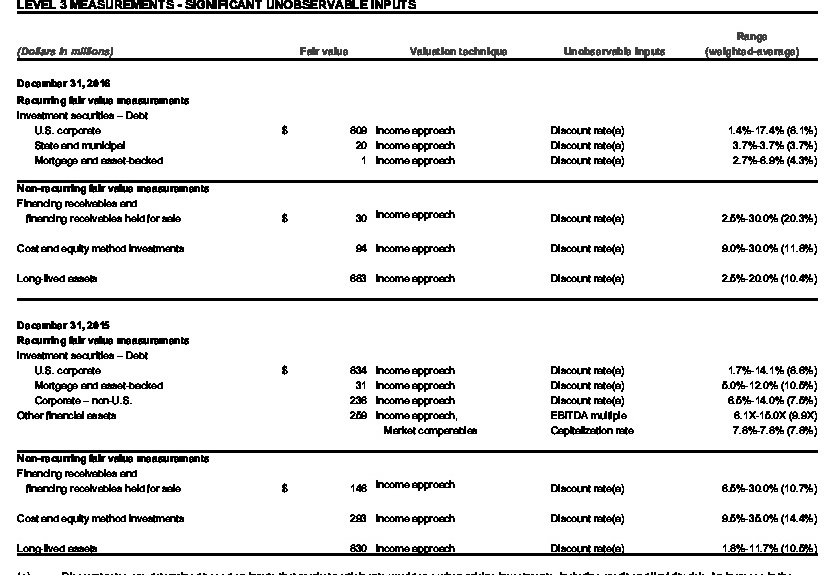table: (0, 0, 835, 575)
